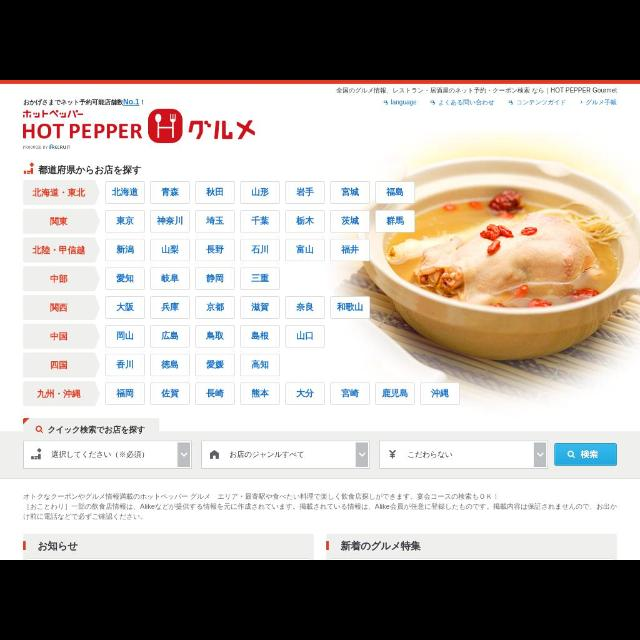button: (356, 442, 368, 466), (178, 442, 188, 466), (535, 442, 545, 466)
icon: (22, 162, 34, 176), (32, 448, 42, 460), (209, 450, 219, 458), (568, 450, 576, 460), (389, 449, 396, 459), (180, 450, 188, 458), (36, 424, 42, 434), (536, 452, 546, 458), (359, 452, 366, 458), (430, 99, 436, 105), (383, 100, 389, 104), (508, 100, 514, 104), (579, 100, 583, 104)
image: (188, 120, 256, 140), (150, 109, 182, 143)
spinner: (380, 441, 548, 467), (23, 442, 190, 468), (202, 442, 368, 468)
text: (24, 492, 618, 522), (336, 86, 618, 94), (22, 122, 144, 140), (38, 164, 142, 178), (50, 448, 146, 460), (339, 540, 421, 552), (48, 426, 146, 436), (23, 98, 140, 106), (23, 107, 86, 119), (229, 450, 303, 460), (30, 187, 86, 199), (37, 540, 79, 554), (33, 245, 87, 255), (38, 388, 82, 400), (408, 452, 454, 461), (22, 144, 70, 152), (112, 187, 140, 200), (516, 98, 566, 105), (438, 100, 496, 106), (156, 216, 184, 227), (205, 272, 225, 286), (384, 186, 406, 198), (115, 330, 137, 342), (204, 330, 226, 342), (114, 358, 136, 370), (48, 331, 70, 343), (336, 303, 362, 313), (382, 388, 408, 398), (341, 216, 362, 228), (115, 302, 136, 314), (114, 216, 136, 227), (114, 243, 136, 254), (248, 331, 270, 342), (204, 358, 226, 369), (586, 99, 616, 107), (250, 186, 270, 198), (296, 186, 316, 198), (250, 215, 270, 227), (294, 216, 318, 226), (385, 214, 405, 226), (160, 245, 180, 257), (204, 244, 224, 256), (340, 244, 360, 256), (160, 272, 180, 284), (294, 330, 314, 342), (580, 449, 600, 461), (161, 331, 179, 344), (206, 186, 224, 198), (206, 215, 224, 227), (251, 243, 269, 255), (296, 242, 314, 254), (116, 272, 134, 284), (251, 272, 269, 284), (161, 302, 179, 314), (252, 301, 270, 313), (160, 188, 180, 198), (116, 388, 136, 398), (48, 302, 68, 312), (48, 216, 68, 226), (296, 388, 314, 399), (162, 358, 178, 370), (342, 187, 361, 197), (206, 302, 224, 312), (296, 301, 314, 311), (162, 388, 180, 398), (207, 388, 225, 398), (251, 388, 269, 398), (341, 389, 359, 399), (431, 388, 449, 398), (50, 274, 68, 284), (252, 358, 268, 369), (51, 360, 68, 370), (391, 100, 417, 106)
textbutton: (555, 444, 617, 464), (150, 352, 190, 378), (286, 238, 326, 262), (151, 382, 191, 406), (104, 211, 146, 233), (240, 296, 282, 318), (240, 210, 280, 233), (330, 238, 368, 262), (242, 266, 280, 290), (152, 296, 190, 320), (196, 382, 234, 406), (197, 210, 236, 233), (151, 182, 191, 204), (240, 181, 280, 203), (330, 181, 370, 203), (375, 210, 415, 232), (241, 239, 281, 261), (106, 268, 146, 290), (196, 268, 236, 290), (106, 325, 146, 347), (194, 325, 234, 347), (106, 355, 146, 377), (376, 384, 416, 406), (420, 383, 460, 405), (286, 210, 324, 233), (197, 296, 236, 318), (106, 182, 144, 204), (196, 182, 234, 204), (286, 182, 324, 204), (376, 182, 414, 204), (331, 210, 369, 232), (106, 239, 144, 261), (152, 239, 190, 261), (106, 296, 144, 318), (332, 296, 370, 318), (286, 325, 324, 347), (196, 354, 234, 376), (151, 212, 191, 232), (151, 270, 191, 290), (285, 298, 325, 318), (106, 382, 144, 403), (332, 384, 371, 404), (196, 240, 234, 260), (242, 326, 280, 346), (241, 384, 279, 404), (286, 384, 324, 404), (153, 326, 190, 346), (240, 355, 280, 373)
